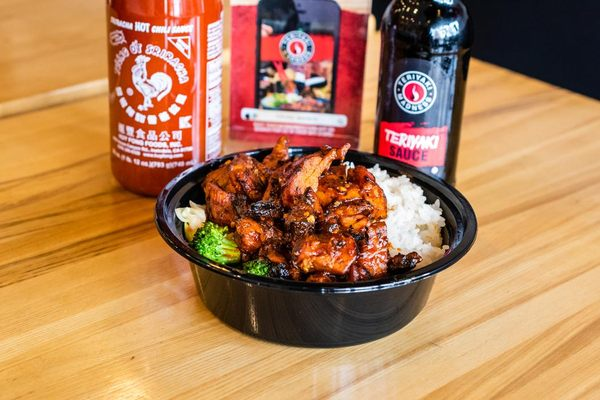curry: (190, 221, 242, 266)
sushi: (154, 140, 477, 349)
